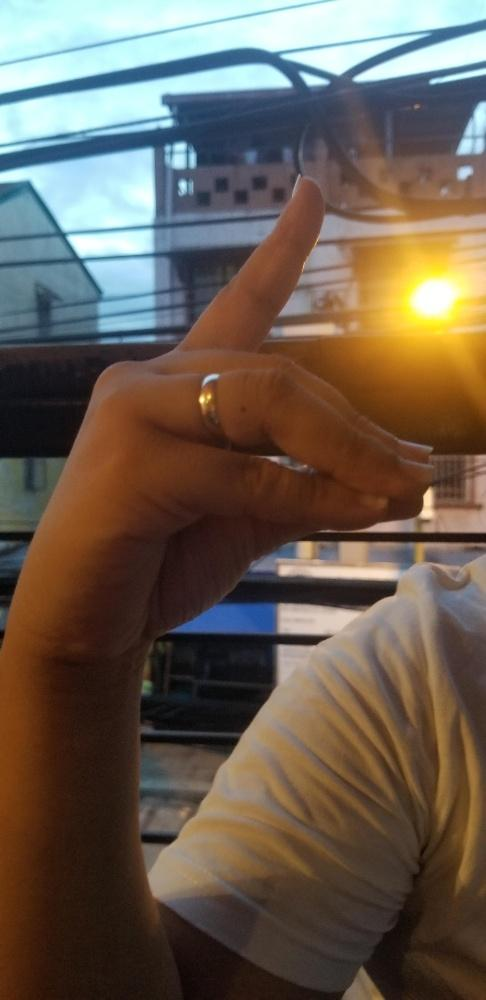d: (14, 173, 447, 655)
